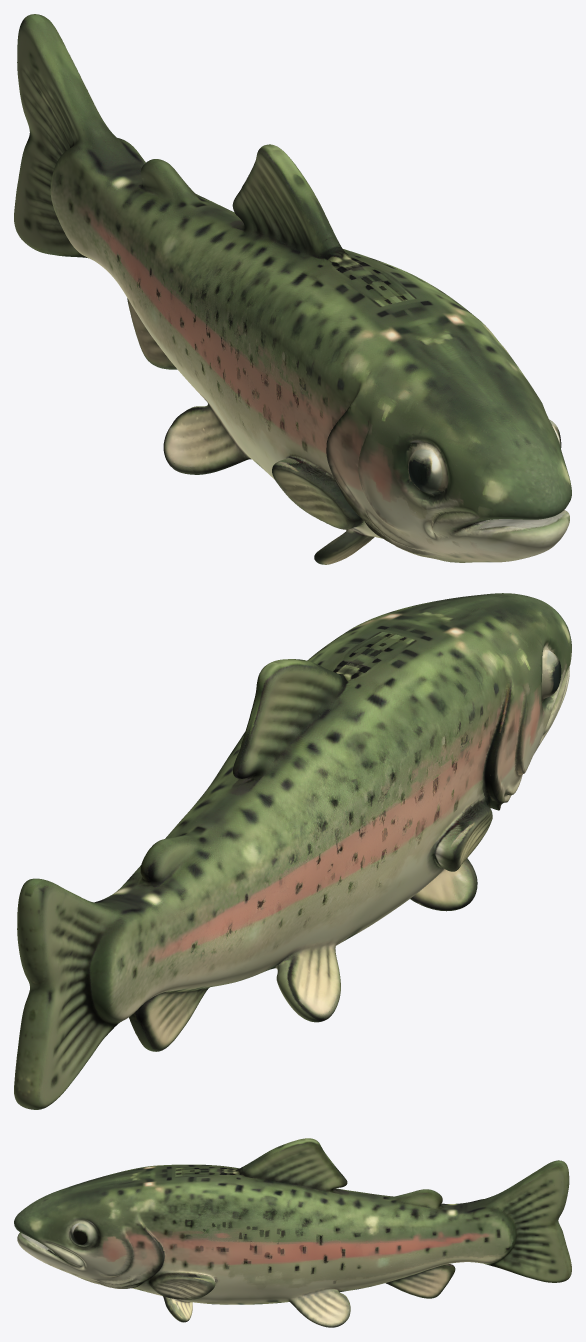
Rendered from Truite.fbx.
3 views of the same model, one above another, from view 1: azimuth 30°, elevation 25°; view 2: azimuth 150°, elevation 25°; view 3: azimuth 270°, elevation 25° (orthographic). The views are drawn at different scales.
Parts seen in each view (by area): view 1: Mesh_0; view 2: Mesh_0; view 3: Mesh_0.
Boxes of the visible parts, x1,y1,x2,y2 form: Mesh_0: (14,14,571,564); Mesh_0: (14,593,571,1109); Mesh_0: (14,1138,571,1327).
Size of the model in its own units: 38.83 by 63.73 by 190.
Materials: 1 (1 with a texture image).
